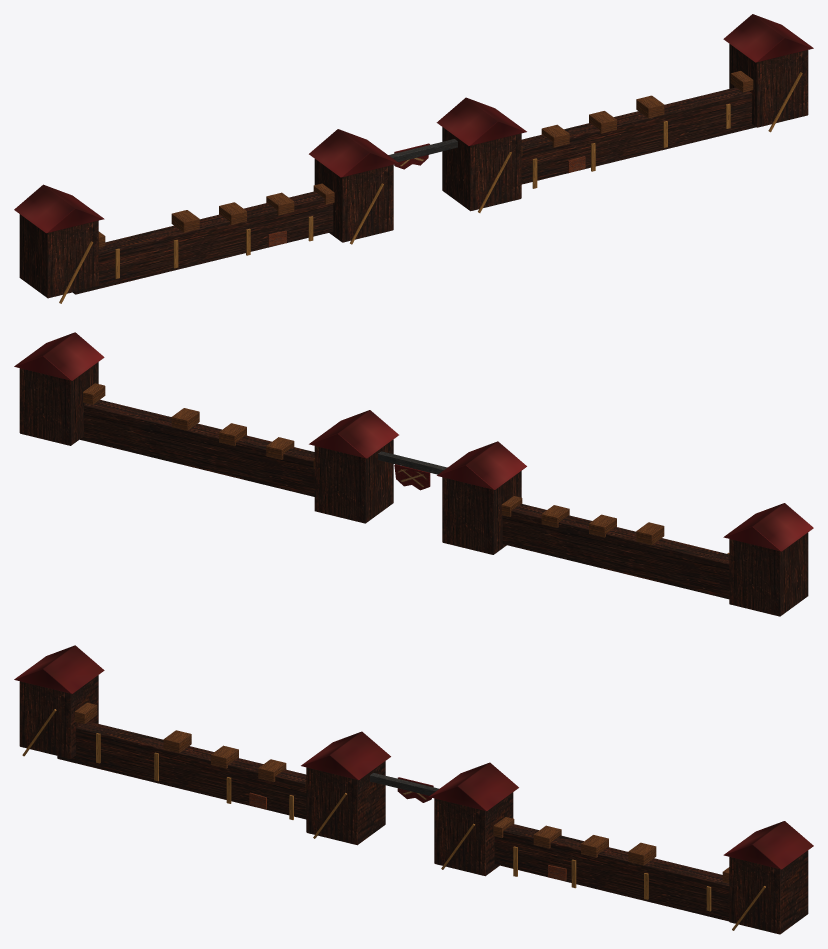
File: fortified_far_bank.glb
The picture shows the model from 3 angles, top to bottom: view 1: azimuth 30°, elevation 25°; view 2: azimuth 150°, elevation 25°; view 3: azimuth 330°, elevation 25°; orthographic projection.
Parts seen in each view (by area): view 1: fortified_far_bank; view 2: fortified_far_bank; view 3: fortified_far_bank.
Part boxes in pixels (bbox=[...]): fortified_far_bank: bbox=[14, 14, 813, 303]; fortified_far_bank: bbox=[14, 332, 813, 616]; fortified_far_bank: bbox=[14, 645, 813, 934].
Bounding box in the file's own units: 55.21 × 6.95 × 4.55.
1 material, 1 textured.
